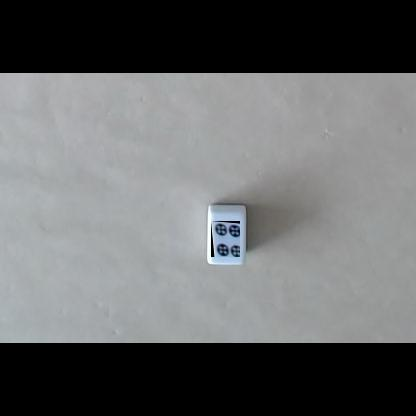4p: (211, 221, 240, 257)
